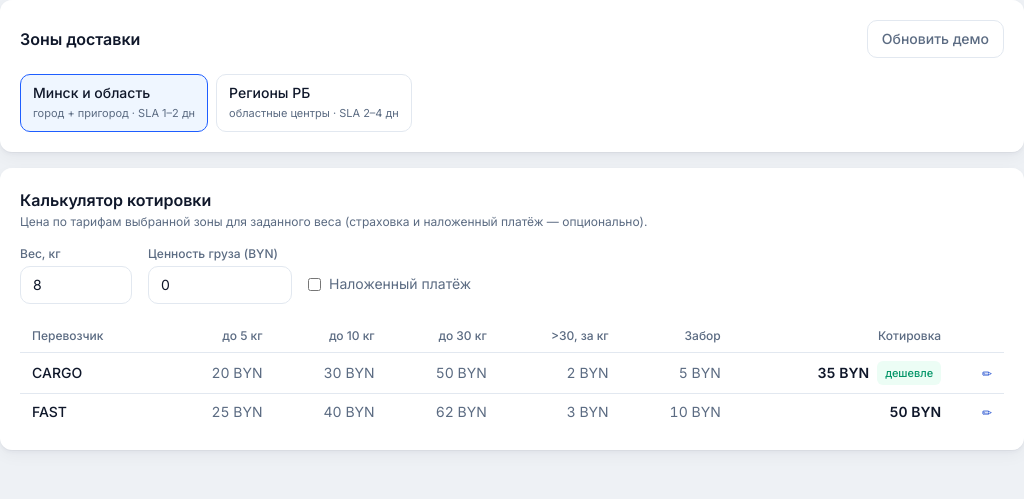
LogisticsTariffs › сбой сохранения тарифа показывает ошибку, а не молчит
expect the text "CARGO" is shown: met, box [20,352,162,394]
Click the button "✏" in the row of "CARGO" at (987,374), box [982,366,992,382]
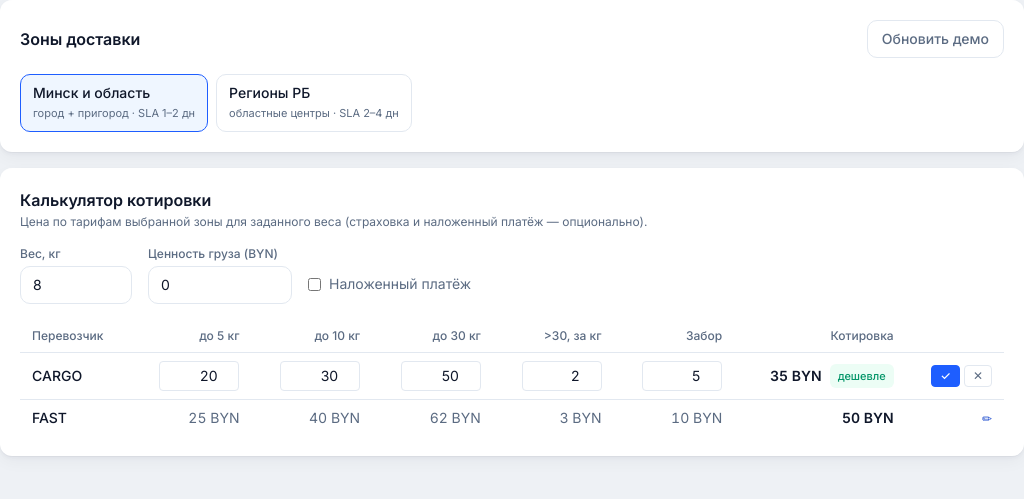
Click the button "✓" at (946,376), box [931,365,960,387]
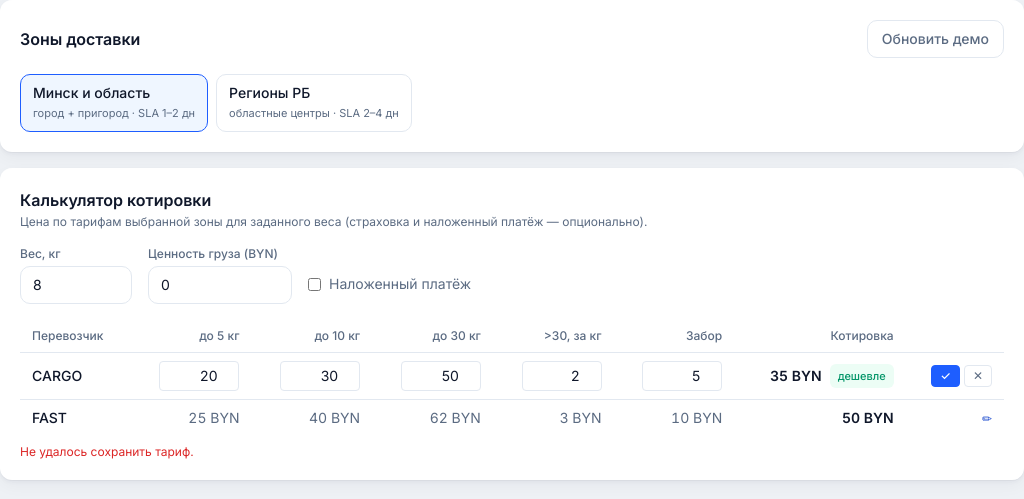
expect the button "✕" is shown: met, box [964,365,992,387]
expect the text "Не удалось сохранить тариф." is shown: met, box [20,444,194,459]
